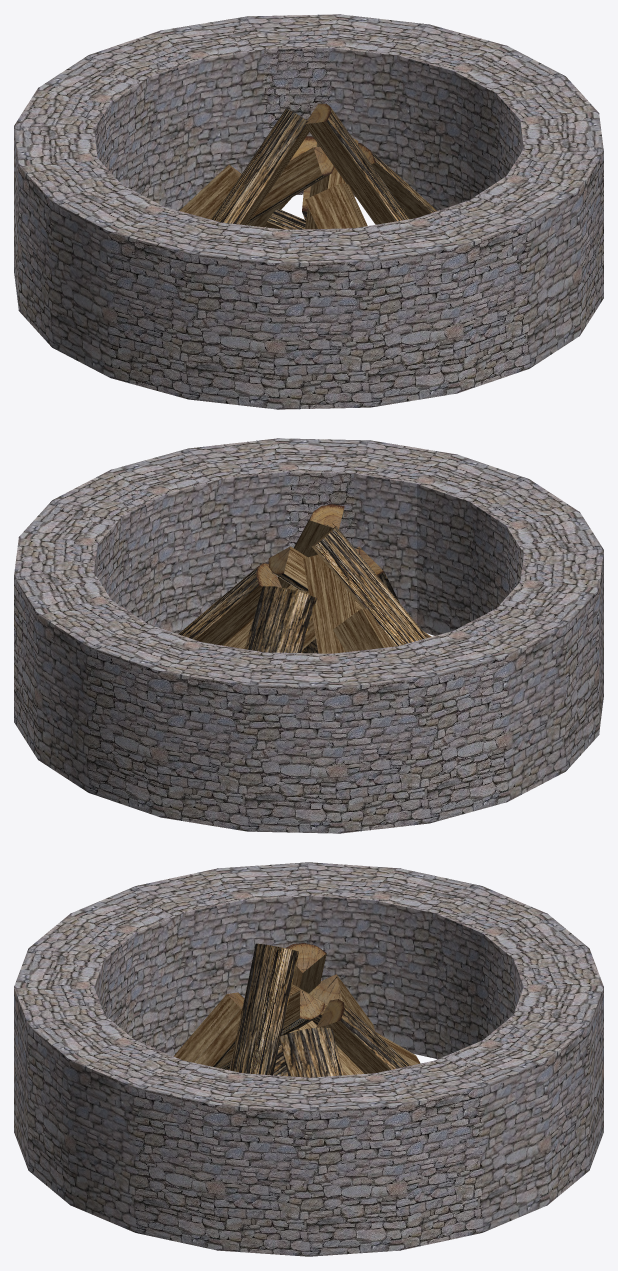
File: FirePit.FBX
3 views of the same model, one above another, from view 1: azimuth 30°, elevation 25°; view 2: azimuth 150°, elevation 25°; view 3: azimuth 270°, elevation 25° (orthographic).
Visible parts, largest first — view 1: FirePit, Log011, Log009, Log012, Log001, Log003, Log002, Log010, Log008, Log004; view 2: FirePit, Log009, Log004, Log003, Log012, Log002, Log011, Log010, Log007; view 3: FirePit, Log011, Log004, Log001, Log003, Log010, Log009, Log002, Log012.
Boxes of the visible parts, <box> form: FirePit: <box>14,14,603,409</box>; Log011: <box>305,103,409,224</box>; Log009: <box>211,108,309,225</box>; Log012: <box>247,147,334,224</box>; Log001: <box>305,183,367,228</box>; Log003: <box>358,143,436,218</box>; Log002: <box>179,164,241,219</box>; Log010: <box>305,138,358,229</box>; Log008: <box>266,209,305,229</box>; Log004: <box>247,136,316,227</box>; FirePit: <box>14,438,603,833</box>; Log009: <box>311,526,427,646</box>; Log004: <box>244,586,316,652</box>; Log003: <box>178,563,281,645</box>; Log012: <box>303,554,356,653</box>; Log002: <box>333,608,396,651</box>; Log011: <box>278,504,344,588</box>; Log010: <box>268,546,431,637</box>; Log007: <box>223,585,315,650</box>; FirePit: <box>14,862,603,1256</box>; Log011: <box>229,943,298,1075</box>; Log004: <box>316,999,409,1073</box>; Log001: <box>173,992,244,1067</box>; Log003: <box>279,1027,343,1077</box>; Log010: <box>216,990,324,1070</box>; Log009: <box>285,943,326,993</box>; Log002: <box>309,974,374,1031</box>; Log012: <box>289,984,420,1065</box>.
Bounding box in the file's own units: 73.66 × 26.1 × 73.66.
Materials: 6 (6 with a texture image).
